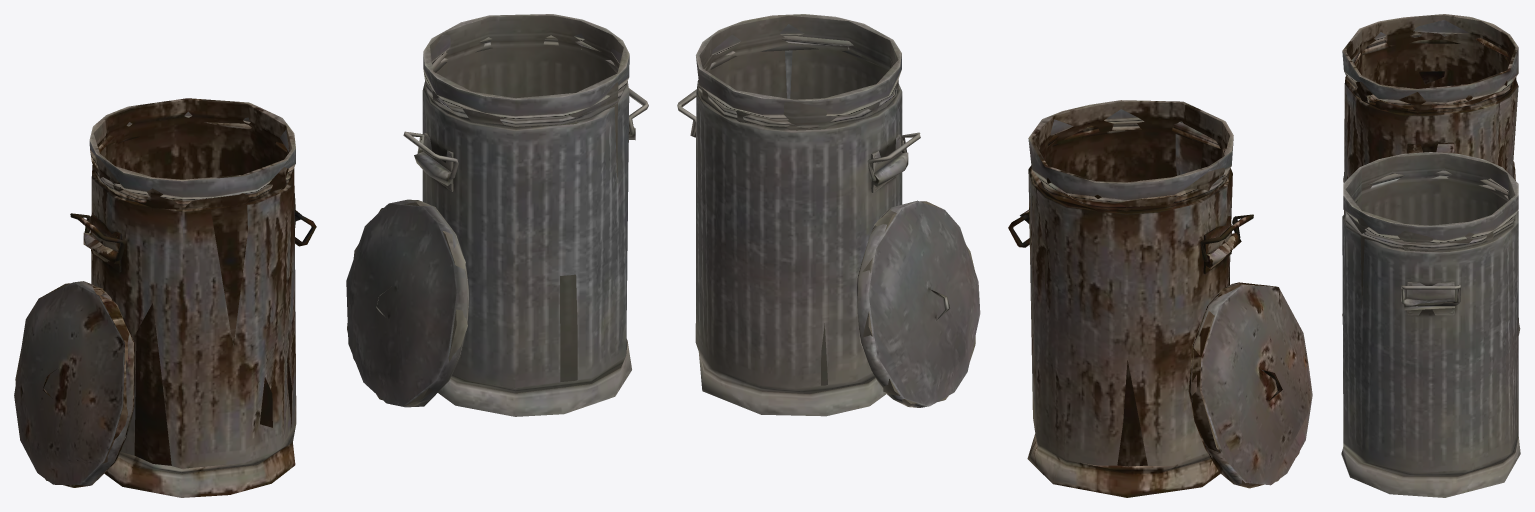
The model's file is trash.glb.
3 renders of one model, left to right at view 1: azimuth 30°, elevation 25°; view 2: azimuth 150°, elevation 25°; view 3: azimuth 270°, elevation 25°, orthographic. The views are drawn at different scales.
Visible parts, largest first — view 1: metal_trash_can_handle_left, metal_trash_can_rust; view 2: metal_trash_can_handle_left, metal_trash_can_rust; view 3: metal_trash_can_handle_left, metal_trash_can_rust.
Part boxes in pixels (bbox=[...]): metal_trash_can_handle_left: bbox=[346, 14, 648, 416]; metal_trash_can_rust: bbox=[14, 98, 316, 497]; metal_trash_can_handle_left: bbox=[677, 14, 980, 416]; metal_trash_can_rust: bbox=[1008, 100, 1312, 497]; metal_trash_can_handle_left: bbox=[1341, 152, 1520, 497]; metal_trash_can_rust: bbox=[1342, 14, 1518, 315].
Bounding box in the file's own units: 1.78 × 0.9062 × 0.5446.
2 materials, 2 textured.
